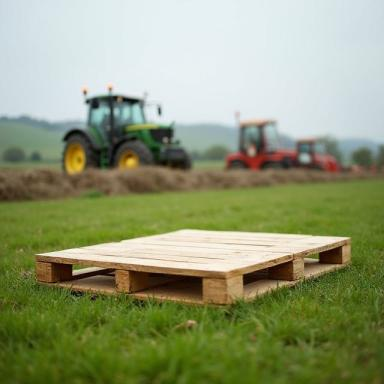pallet: (35, 228, 351, 311), (149, 273, 202, 292)
